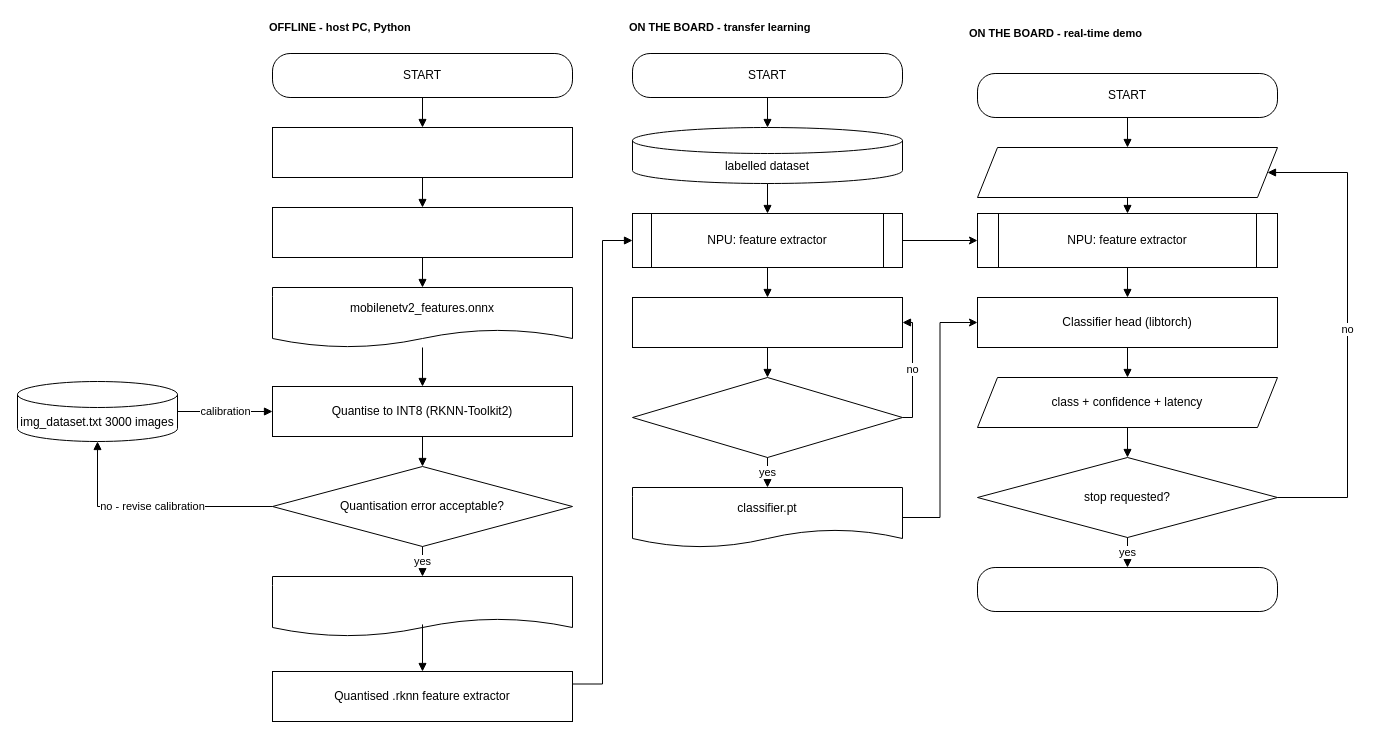
Image size: 1373x739. Some labels were removed from this diagram. Each missing label, with the box of its shape:
30 epochs done?: (632, 376, 902, 458)
camera frame: (976, 146, 1278, 198)
END: (976, 566, 1278, 612)
Keep the feature extractor, drop the classifier: (272, 206, 572, 258)
Load pretrained MobileNetV2: (272, 126, 572, 178)
mobilenetv2_features.rknn: (272, 576, 572, 636)
Train the Linear head (libtorch): (632, 296, 902, 348)
